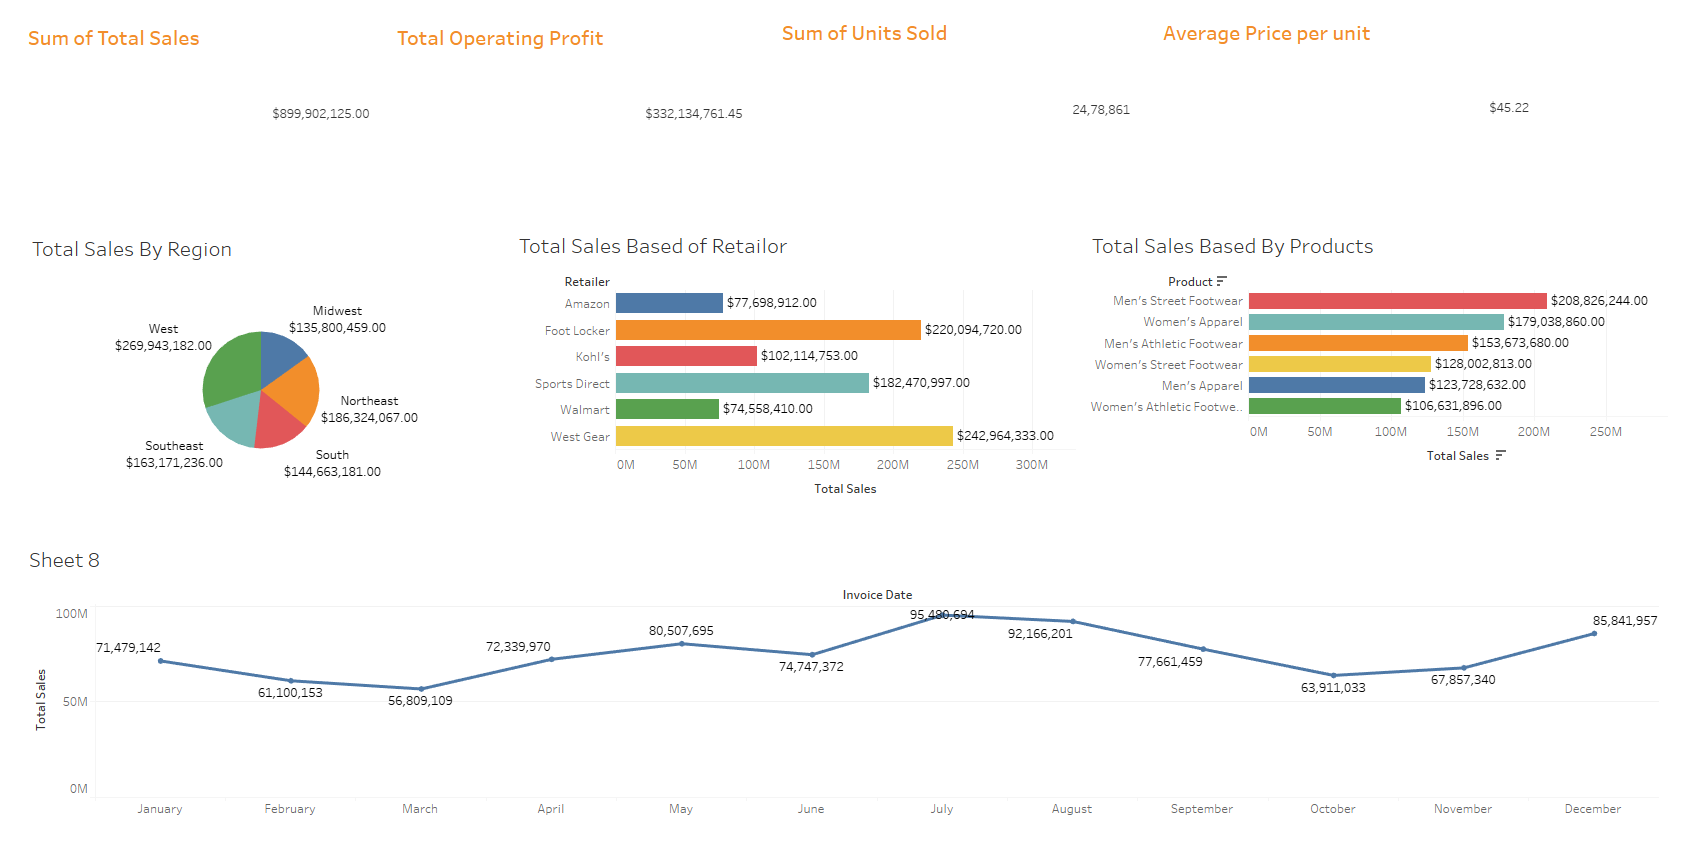

The dashboard page shown, as its layout file describes it:
{"tool":"tableau","page":{"name":"Dashboard 1","canvas":[1000,1000],"units":"permille","ordinal":0},"visuals":[{"type":"worksheet","title":"Sheet 3","mark":"Automatic","box":[452.9,11.7,213,179.9]},{"type":"worksheet","title":"Sheet 4","mark":"Automatic","box":[675.8,11.7,223.5,176.4]},{"type":"worksheet","title":"Sheet 1","mark":"Automatic","box":[11.7,17.5,208.9,177.6]},{"type":"worksheet","title":"Sheet 2","mark":"Automatic","box":[227.6,17.5,211.2,178.7]},{"type":"worksheet","title":"Sheet 7","mark":"Automatic","rows":["Retailer"],"cols":["Total Sales"],"box":[299,260.5,332.9,332.9]},{"type":"worksheet","title":"Sheet 6","mark":"Automatic","rows":["Product"],"cols":["Total Sales"],"box":[634.3,260.5,344.1,295.6]},{"type":"worksheet","title":"Sheet 5","mark":"Pie","box":[14,264,277.4,332.9]},{"type":"worksheet","title":"Sheet 8","mark":"Automatic","rows":["Total Sales"],"cols":["Invoice Date"],"box":[12.3,627.3,960.8,332.9]}]}

Visuals, with their boxes on the dashboard's canvas, which has no fixed pixel size, in thousandths of its width and height (x1, y1, x2, y2). These are canvas units, not pixel positions in the 1704x851 screenshot, which may show the page scaled, cropped or inside an application window:
"Sheet 3" worksheet: 453/12/666/192
"Sheet 4" worksheet: 676/12/899/188
"Sheet 1" worksheet: 12/18/221/195
"Sheet 2" worksheet: 228/18/439/196
"Sheet 7" worksheet: 299/260/632/593
"Sheet 6" worksheet: 634/260/978/556
"Sheet 5" worksheet (Pie marks): 14/264/291/597
"Sheet 8" worksheet: 12/627/973/960
